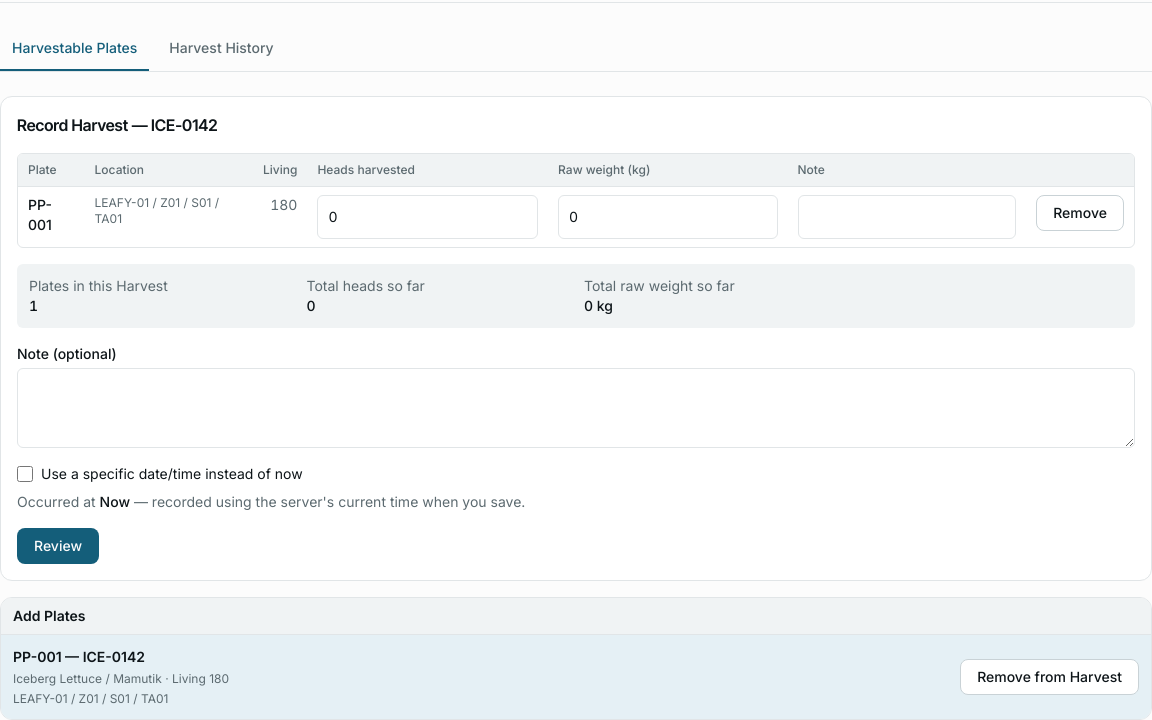
LeafyHarvestPage PILOT-SCAN-001E: placement-scan (assignmentId) context › does not re-apply the assignment context after the operator removes the pre-selected Plate
(page scrolled)
Expected: the number field named "heads harvested" is shown, x1=317 y1=195 x2=538 y2=239
Click the button "Remove from Harvest" at (1050, 677), box x1=960 y1=659 x2=1139 y2=695
(page scrolled)
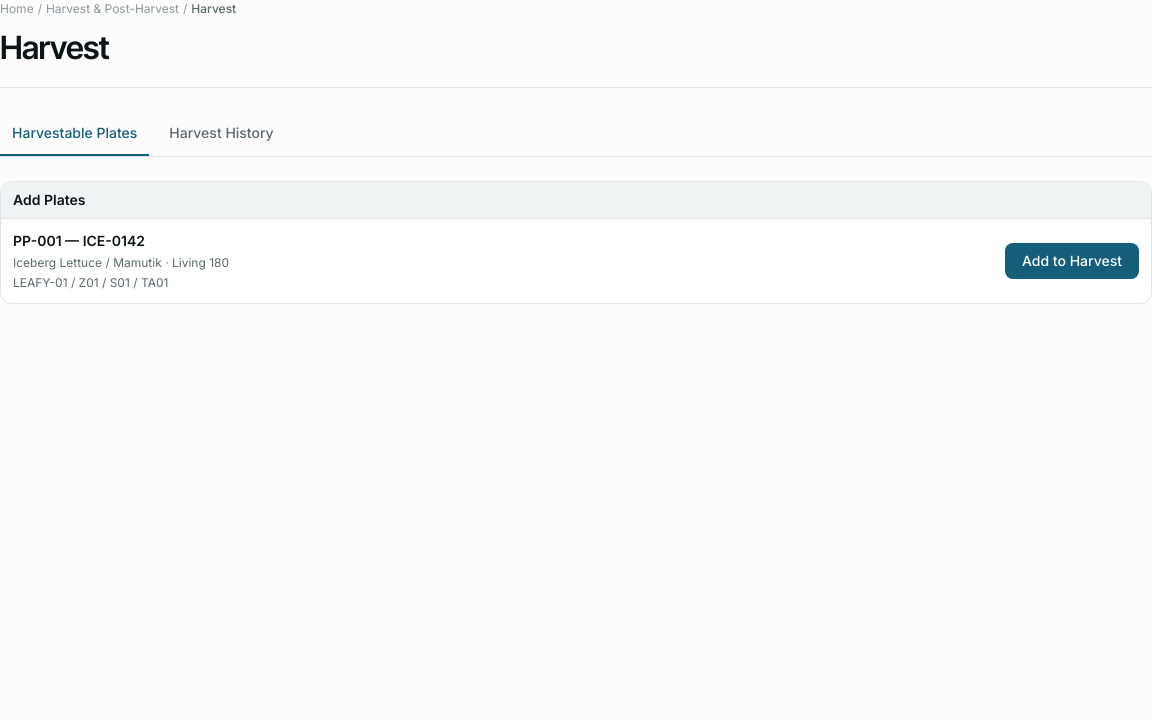
Now the column heading labelled "Heads harvested" is gone
Now the number of buttons "Add to Harvest" is 1, box x1=1005 y1=243 x2=1139 y2=279
